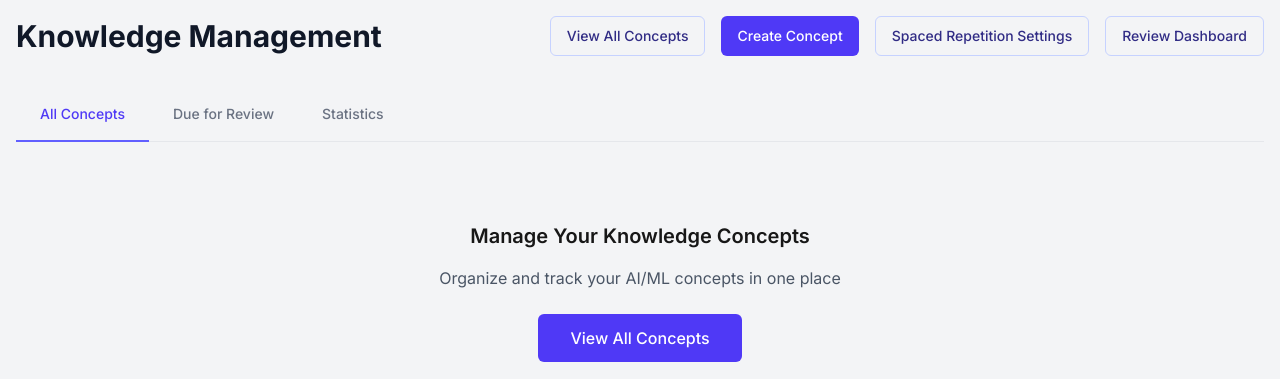
Test case: KnowledgePage › shows no concepts due message when there are no due concepts
Note: Click on the due tab
Click the button with test id "due-tab": (224,115) [149, 88, 298, 142]
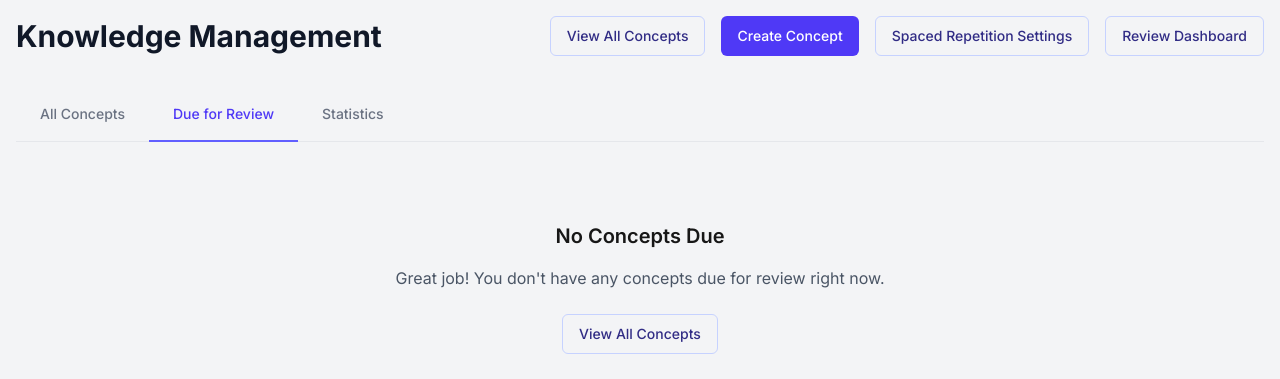
Now the heading "No Concepts Due" is shown, box [556, 224, 724, 248]
